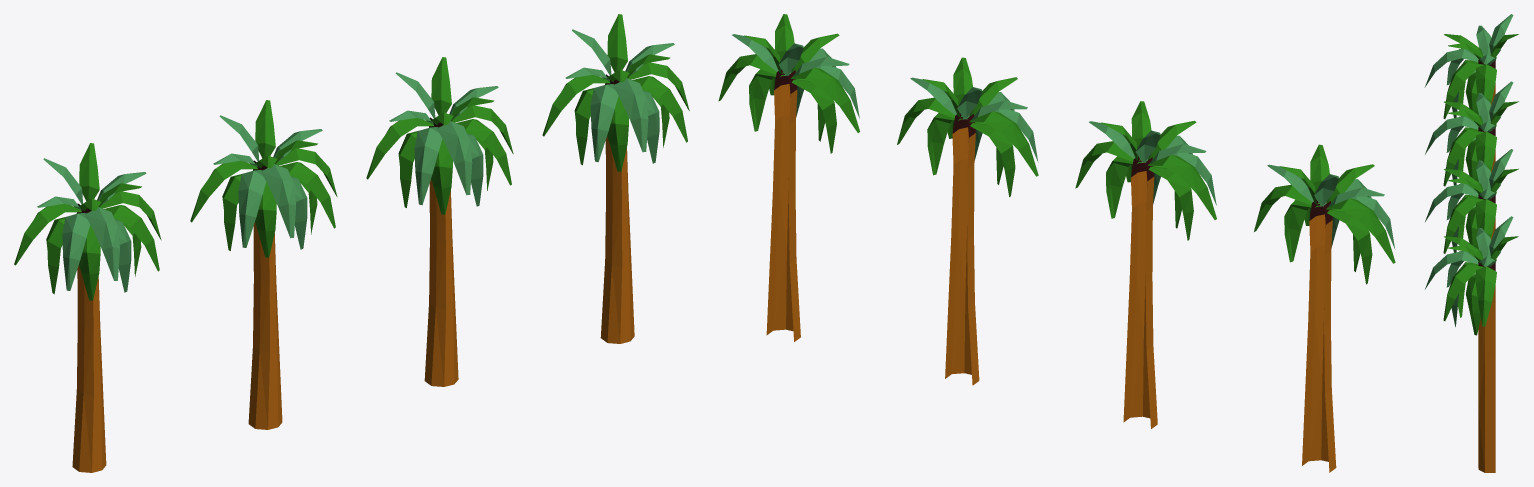
File: 4Poly_PalmTree1_instancetest.glb
3 renders of one model, left to right at view 1: azimuth 30°, elevation 25°; view 2: azimuth 150°, elevation 25°; view 3: azimuth 270°, elevation 25°, orthographic. The views are drawn at different scales.
Visible parts, largest first — view 1: Poly_Palm_Tree1, Poly_Palm_Tree002, Poly_Palm_Tree003, Poly_Palm_Tree004; view 2: Poly_Palm_Tree003, Poly_Palm_Tree002, Poly_Palm_Tree1, Poly_Palm_Tree004; view 3: Poly_Palm_Tree004, Poly_Palm_Tree002, Poly_Palm_Tree003, Poly_Palm_Tree1.
Part boxes in pixels (x1,y1,x2,y2): Poly_Palm_Tree1: [14, 143, 161, 472]; Poly_Palm_Tree002: [190, 100, 337, 429]; Poly_Palm_Tree003: [366, 57, 513, 386]; Poly_Palm_Tree004: [542, 14, 689, 343]; Poly_Palm_Tree003: [897, 57, 1038, 385]; Poly_Palm_Tree002: [1075, 101, 1216, 428]; Poly_Palm_Tree1: [1254, 144, 1395, 472]; Poly_Palm_Tree004: [718, 14, 859, 341]; Poly_Palm_Tree004: [1425, 216, 1518, 472]; Poly_Palm_Tree002: [1425, 81, 1518, 186]; Poly_Palm_Tree003: [1425, 149, 1518, 253]; Poly_Palm_Tree1: [1424, 14, 1518, 118].
Bounding box in the file's own units: 4.28 × 1.86 × 0.6704.
